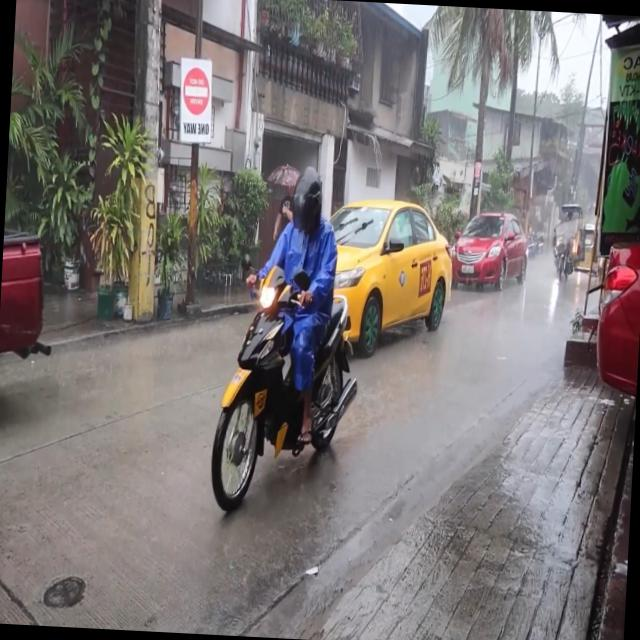half: (290, 162, 326, 238)
